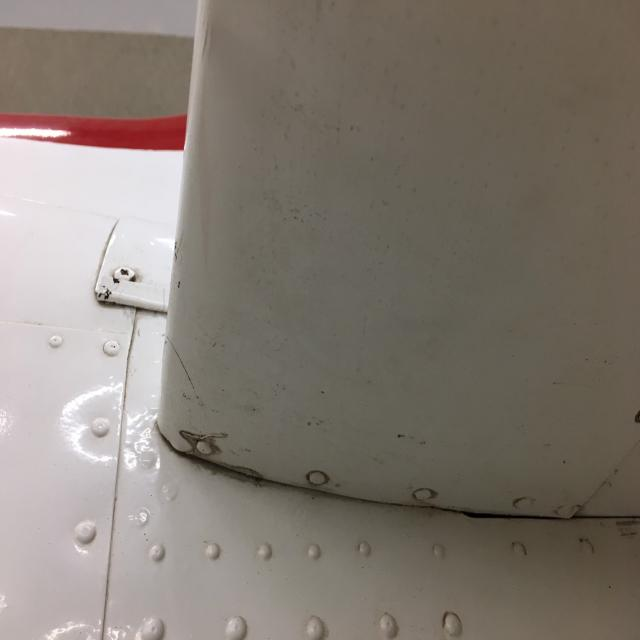Rupture: (162, 392, 287, 498), (64, 258, 175, 346), (604, 504, 640, 580), (184, 0, 218, 68)
